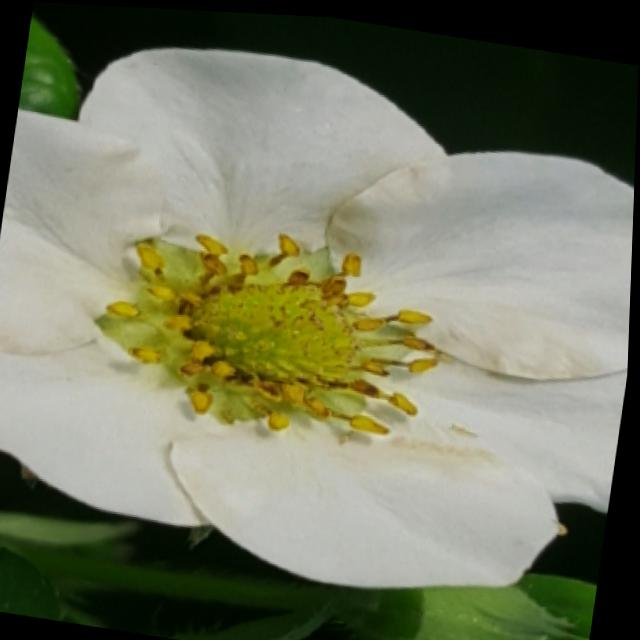Blossom Blight: (105, 227, 443, 441)
